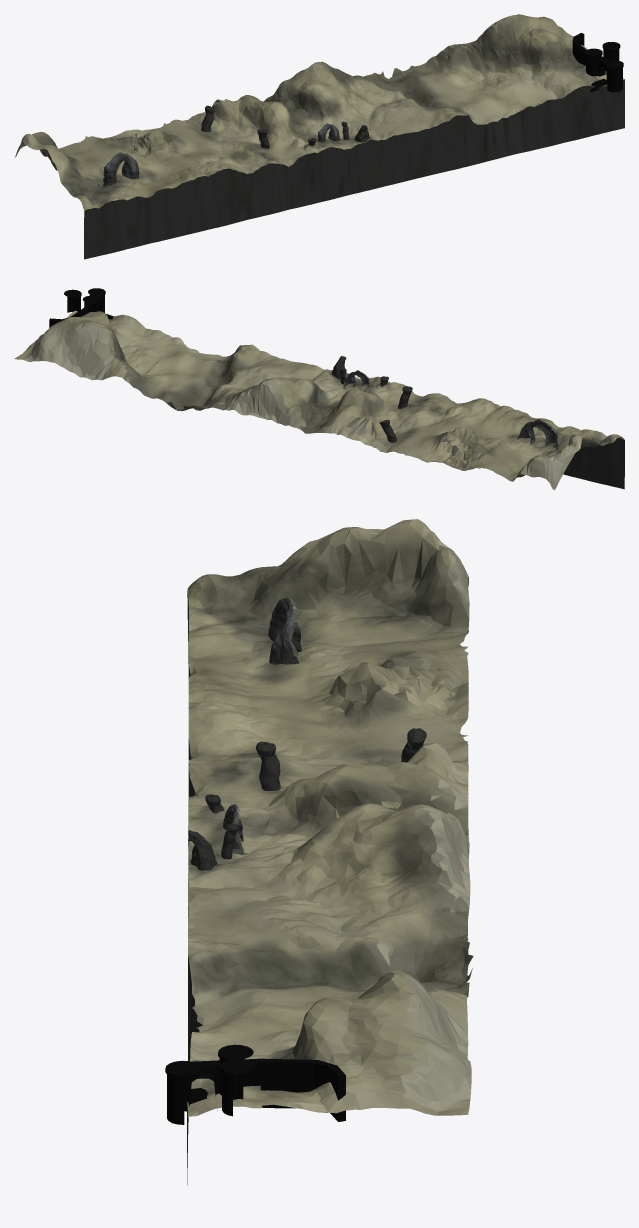
The model's file is level0.dae.
3 renders of one model, top to bottom at view 1: azimuth 30°, elevation 25°; view 2: azimuth 150°, elevation 25°; view 3: azimuth 270°, elevation 25°, orthographic. The views are drawn at different scales.
Parts seen in each view (by area): view 1: Plane, Cube_001, arch1_002; view 2: Plane, Cube_001, arch1_002; view 3: Plane, Cube_001, arch1_002, column2_001.
Part boxes in pixels (x1,y1,x2,y2): Plane: (15,14,624,259); Cube_001: (572,33,623,92); arch1_002: (103,152,139,185); Plane: (14,310,624,490); Cube_001: (49,288,113,327); arch1_002: (517,419,558,450); Plane: (187,519,473,1184); Cube_001: (165,1044,345,1124); arch1_002: (268,596,301,664); column2_001: (256,741,280,790).
Size of the model in its own units: 19.09 by 4.61 by 2.92.
Materials: 4 (4 with a texture image).
